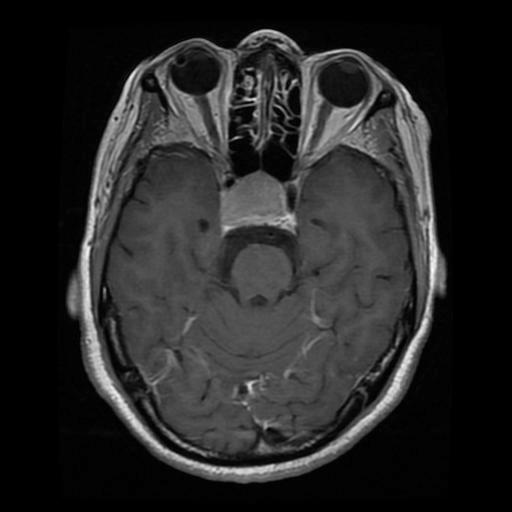Tumour-Pituitary: (216, 176, 309, 235)
